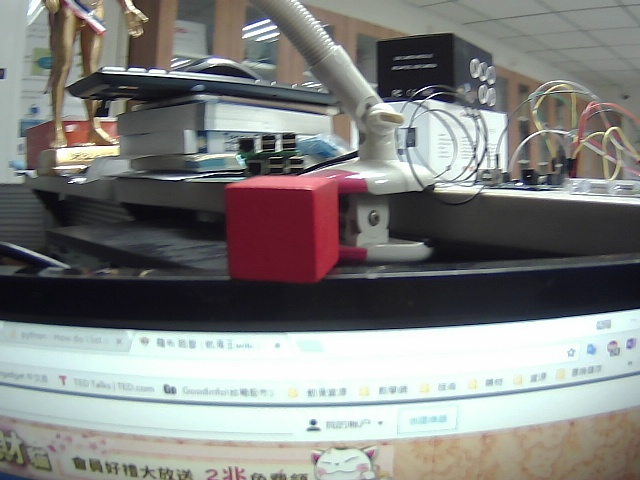redbox: (220, 169, 355, 284)
